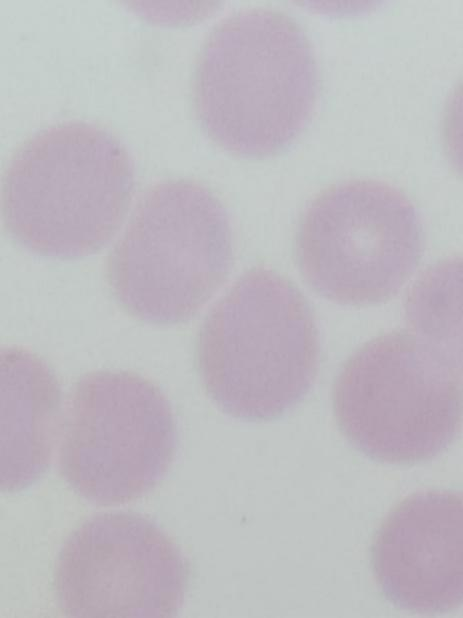Uninfected: (192, 7, 315, 159), (195, 267, 317, 416), (108, 181, 229, 323), (53, 376, 176, 513), (0, 131, 132, 256), (337, 331, 463, 456), (295, 184, 421, 303), (53, 514, 182, 618), (372, 482, 463, 618)
